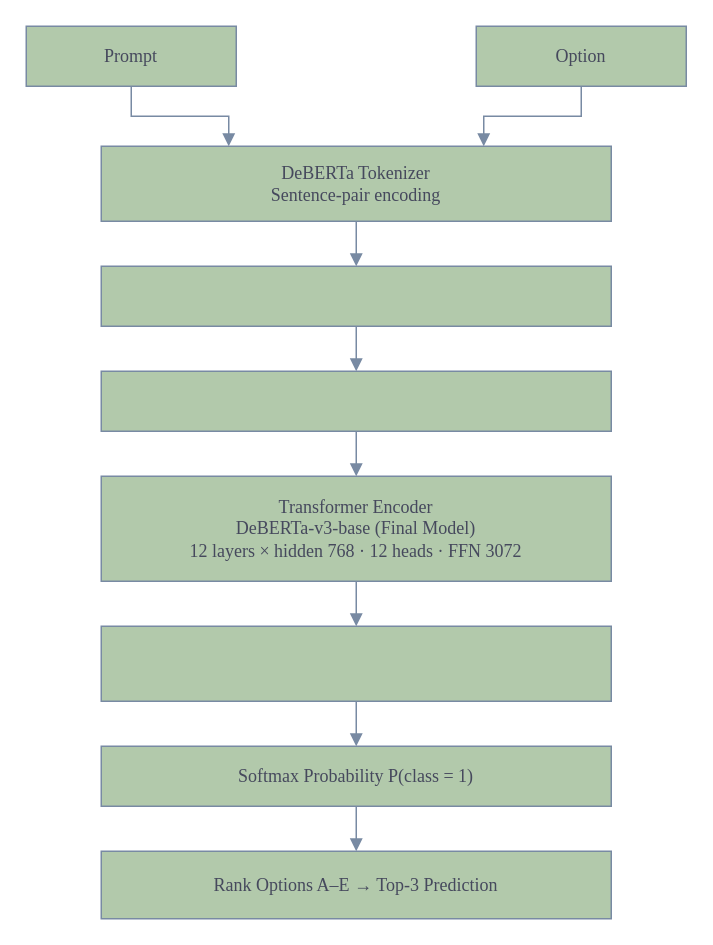
Image size: 713x945. Some labels were removed from this diagram. The shapes that lost their labels are listed below. From the top down, each one's centre as x and y in pixels, then its label:
pixel 355 295: Input IDs + Attention Mask
pixel 355 400: Embedding Layer (768-d)
pixel 355 663: Classification Head Context Pooler + Linear(768 → 2)
